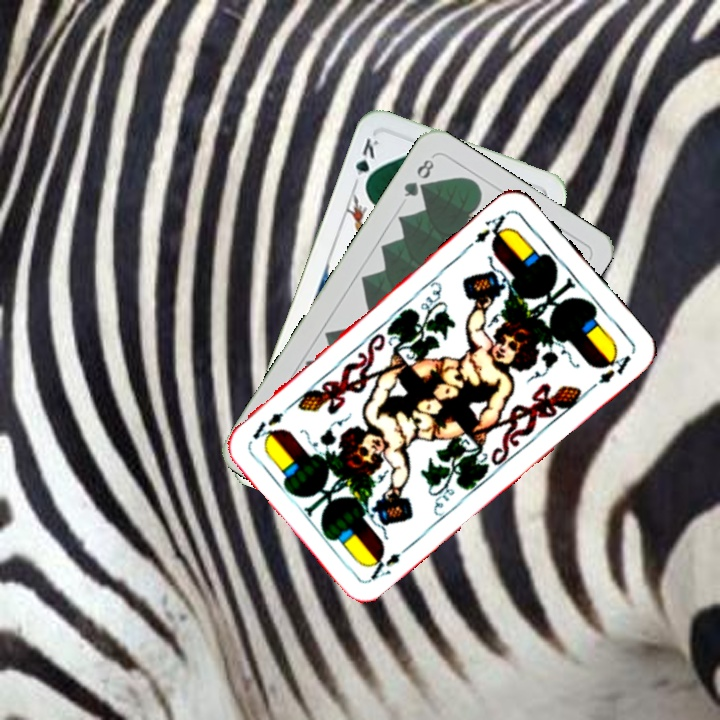EA: (463, 207, 514, 251), (363, 540, 414, 583)
G8: (399, 153, 437, 200)
GK: (351, 133, 382, 192)
